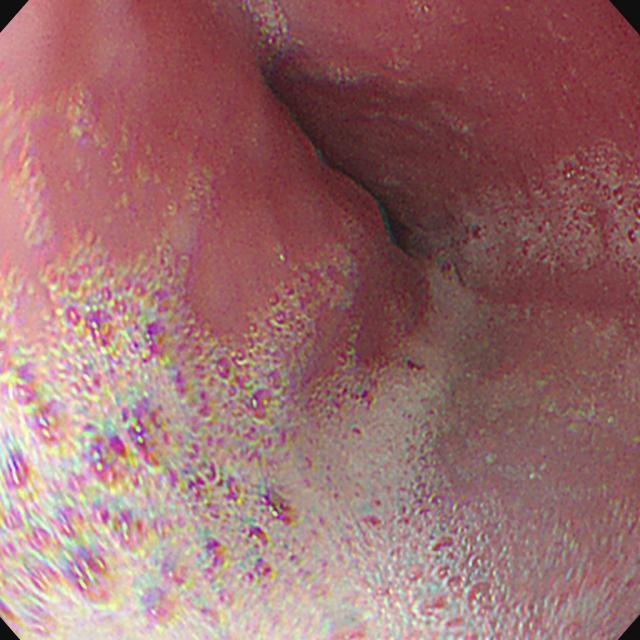T: (2, 254, 348, 640), (349, 282, 640, 640), (435, 143, 640, 280)
